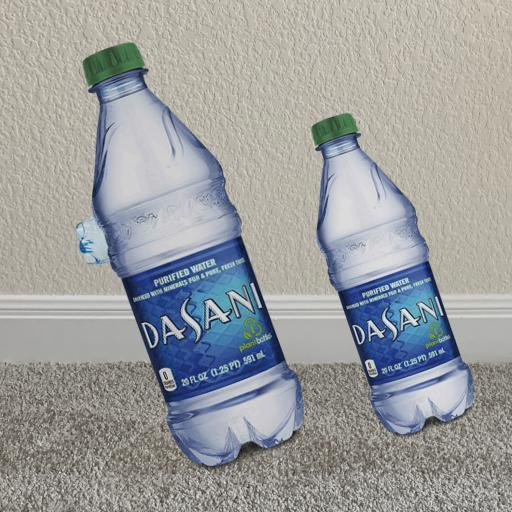bottle: (0, 38, 153, 486), (378, 88, 411, 432)
